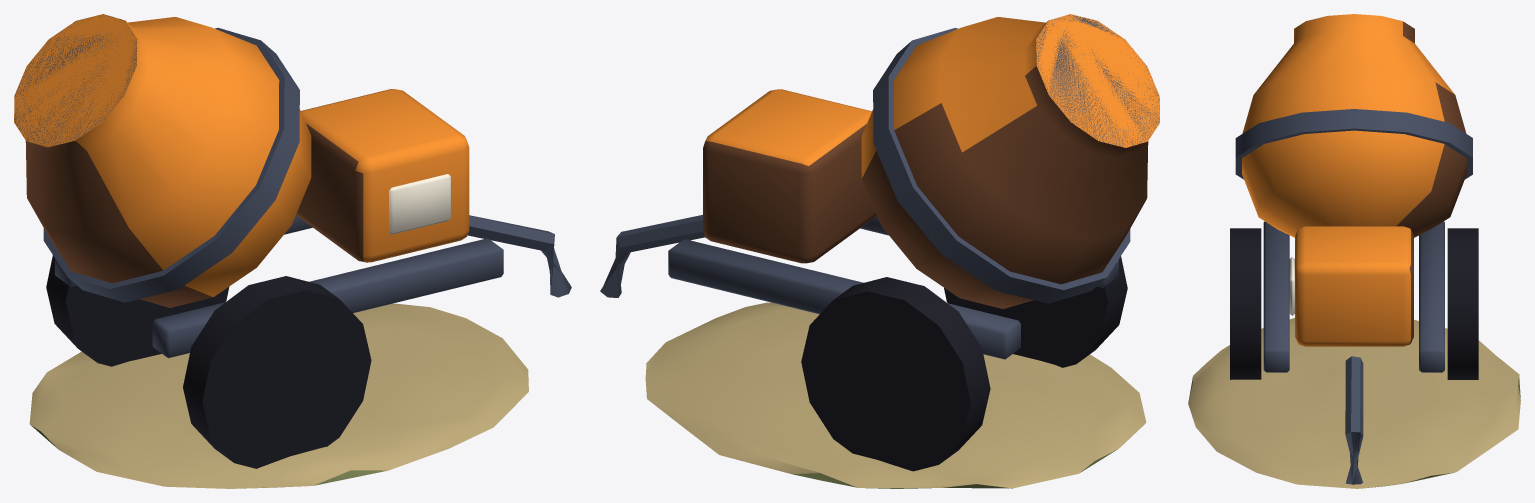
File: CementMixer.fbx
3 views of the same model, side by side, from view 1: azimuth 30°, elevation 25°; view 2: azimuth 150°, elevation 25°; view 3: azimuth 270°, elevation 25° (orthographic). The views are drawn at different scales.
Visible parts, largest first — view 1: CementMixer; view 2: CementMixer; view 3: CementMixer.
Part boxes in pixels (x1,y1,x2,y2): CementMixer: (14, 14, 571, 488); CementMixer: (600, 14, 1159, 488); CementMixer: (1188, 14, 1520, 488).
Bounding box in the file's own units: 1.93 × 1.4 × 1.29.
Materials: 1 (1 with a texture image).
